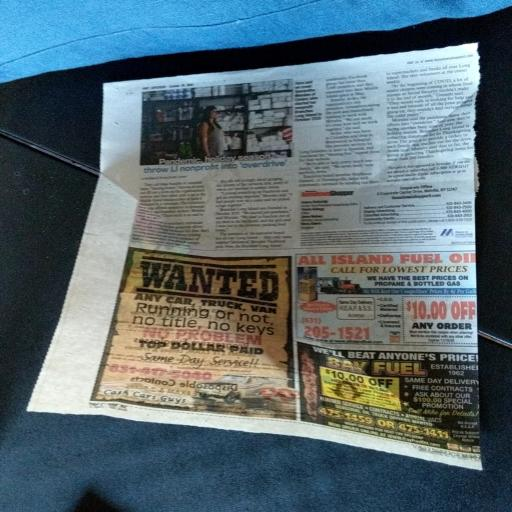paper: (5, 40, 512, 471)
